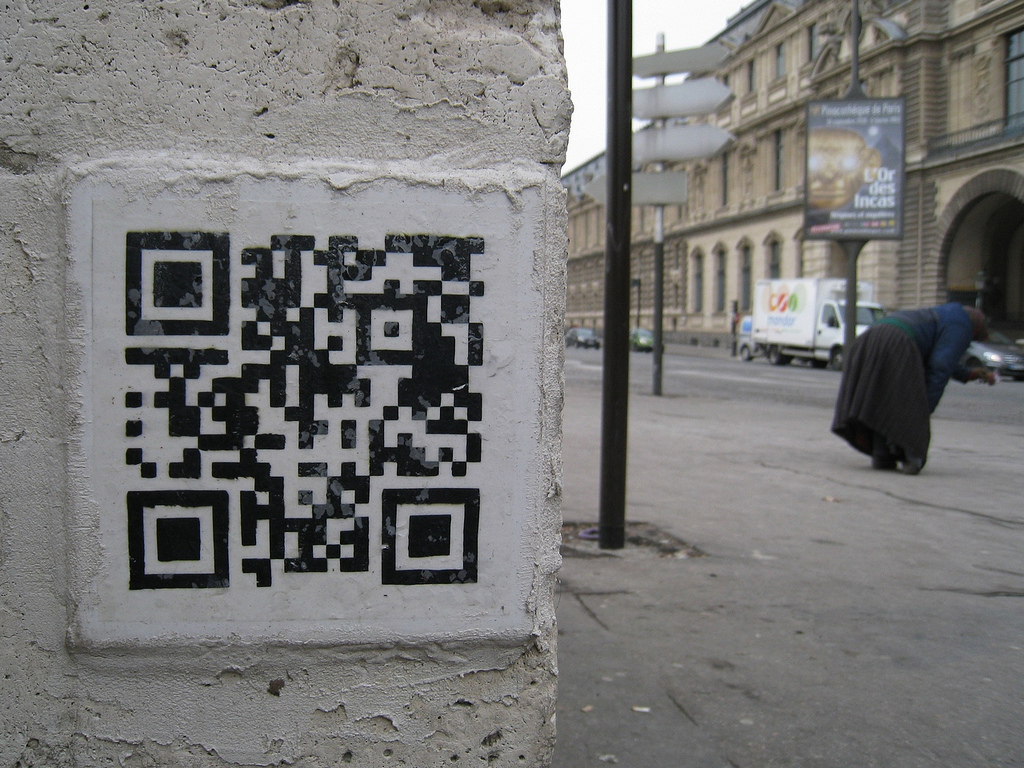QR-CODE: (125, 231, 484, 589)
